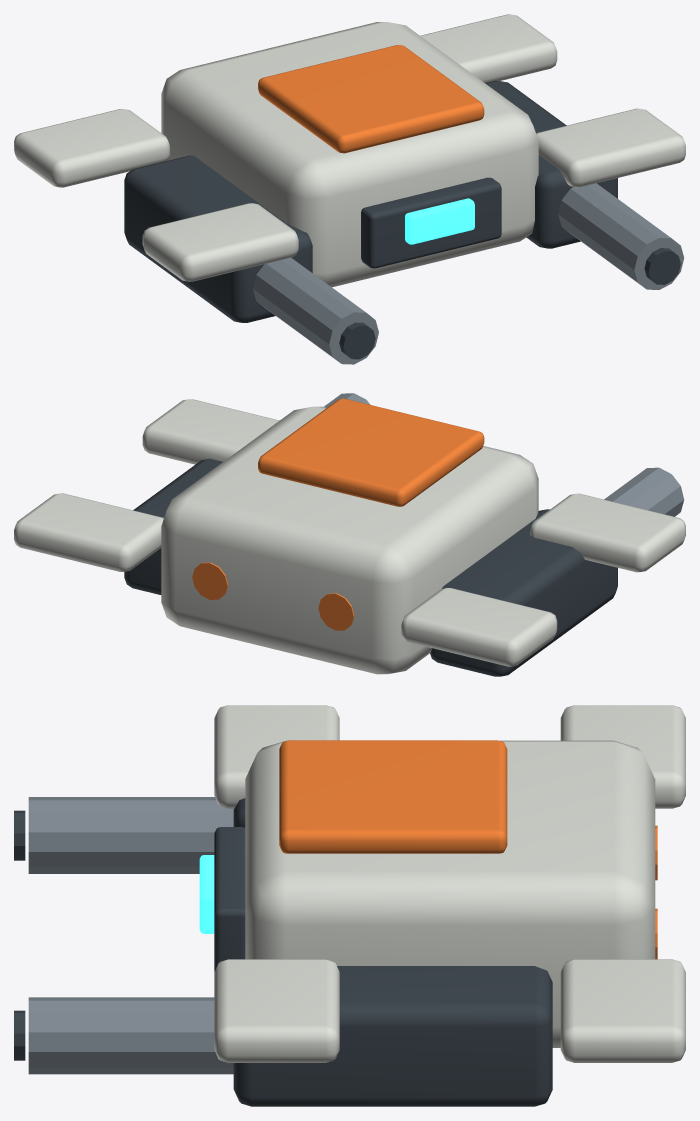
File: VXDR_ATTACK_v001_DRONE.fbx
The picture shows the model from 3 angles, top to bottom: view 1: azimuth 30°, elevation 25°; view 2: azimuth 150°, elevation 25°; view 3: azimuth 270°, elevation 25°; orthographic projection. The views are drawn at different scales.
Parts seen in each view (by area): view 1: Armored sensor shell, Top identification, Gun carrier, Foldable stabilizer, Foldable stabilizer.001, Foldable stabilizer.002, Sensor recess, Cannon barrel.001, Cannon barrel, Foldable stabilizer.003, Gun carrier.001, Optical sensor (+2 smaller); view 2: Armored sensor shell, Top identification, Gun carrier, Foldable stabilizer.001, Foldable stabilizer.003, Foldable stabilizer, Foldable stabilizer.002, Gun carrier.001, Cannon barrel, Dock contact, Dock contact.001; view 3: Armored sensor shell, Gun carrier.001, Top identification, Cannon barrel.001, Cannon barrel, Foldable stabilizer.003, Foldable stabilizer.002, Foldable stabilizer.001, Foldable stabilizer, Sensor recess, Optical sensor, Muzzle bore (+1 smaller).
Boxes of the visible parts, x1=… form: Armored sensor shell: x1=161, y1=22, x2=538, y2=287; Top identification: x1=258, y1=45, x2=484, y2=153; Gun carrier: x1=124, y1=155, x2=312, y2=322; Foldable stabilizer: x1=142, y1=203, x2=298, y2=281; Foldable stabilizer.001: x1=14, y1=109, x2=169, y2=187; Foldable stabilizer.002: x1=536, y1=108, x2=685, y2=187; Sensor recess: x1=361, y1=177, x2=501, y2=268; Cannon barrel.001: x1=558, y1=183, x2=683, y2=289; Cannon barrel: x1=253, y1=258, x2=378, y2=364; Foldable stabilizer.003: x1=420, y1=14, x2=557, y2=83; Gun carrier.001: x1=485, y1=81, x2=617, y2=248; Optical sensor: x1=405, y1=198, x2=474, y2=244; Armored sensor shell: x1=161, y1=406, x2=538, y2=674; Top identification: x1=258, y1=398, x2=484, y2=506; Gun carrier: x1=430, y1=509, x2=617, y2=676; Foldable stabilizer.001: x1=401, y1=588, x2=557, y2=666; Foldable stabilizer.003: x1=14, y1=493, x2=163, y2=571; Foldable stabilizer: x1=530, y1=493, x2=685, y2=572; Foldable stabilizer.002: x1=142, y1=399, x2=279, y2=464; Gun carrier.001: x1=124, y1=458, x2=222, y2=594; Cannon barrel: x1=604, y1=467, x2=684, y2=516; Dock contact: x1=318, y1=593, x2=354, y2=630; Dock contact.001: x1=192, y1=562, x2=228, y2=599; Armored sensor shell: x1=245, y1=740, x2=655, y2=1047; Gun carrier.001: x1=233, y1=966, x2=552, y2=1106; Top identification: x1=279, y1=740, x2=507, y2=853; Cannon barrel.001: x1=28, y1=997, x2=233, y2=1074; Cannon barrel: x1=28, y1=797, x2=233, y2=873; Foldable stabilizer.003: x1=560, y1=959, x2=685, y2=1062; Foldable stabilizer.002: x1=214, y1=959, x2=339, y2=1062; Foldable stabilizer.001: x1=560, y1=705, x2=685, y2=808; Foldable stabilizer: x1=214, y1=705, x2=339, y2=808; Sensor recess: x1=214, y1=827, x2=245, y2=971; Optical sensor: x1=199, y1=855, x2=214, y2=933; Muzzle bore: x1=14, y1=810, x2=25, y2=860.
Bounding box in the file's own units: 34.4 × 9.8 × 29.5.
